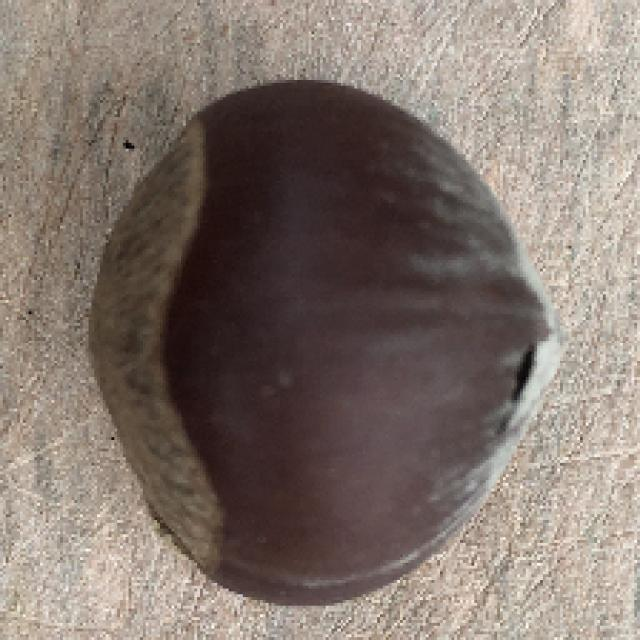DamagedHazelnut: (85, 78, 573, 606)
